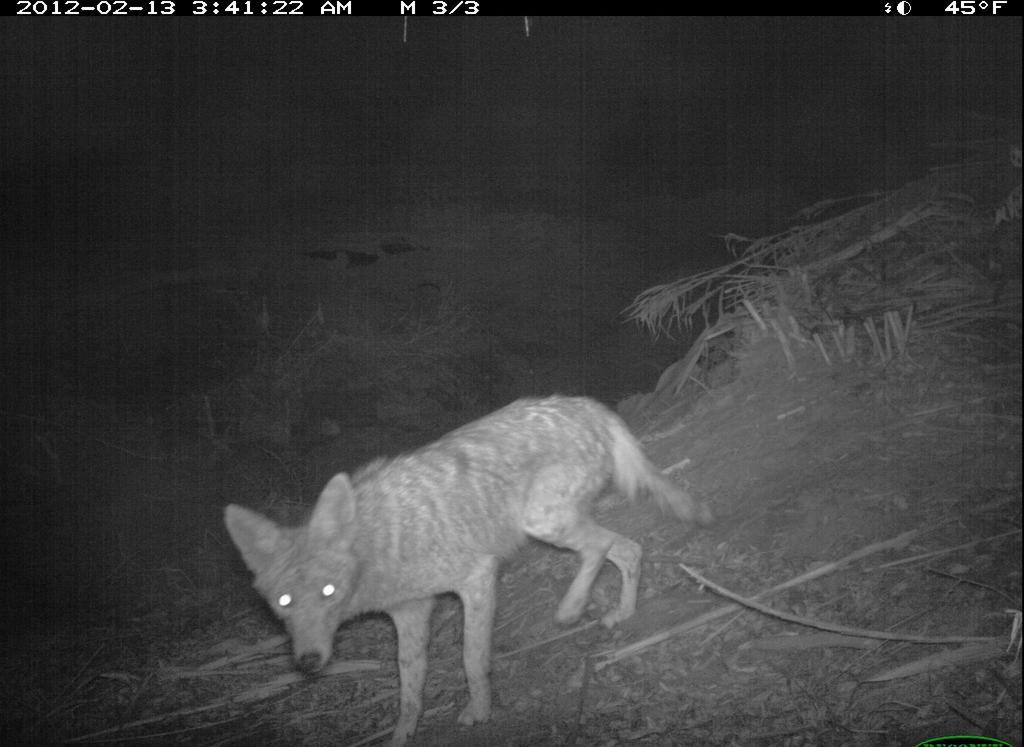coyote: (216, 382, 725, 747)
